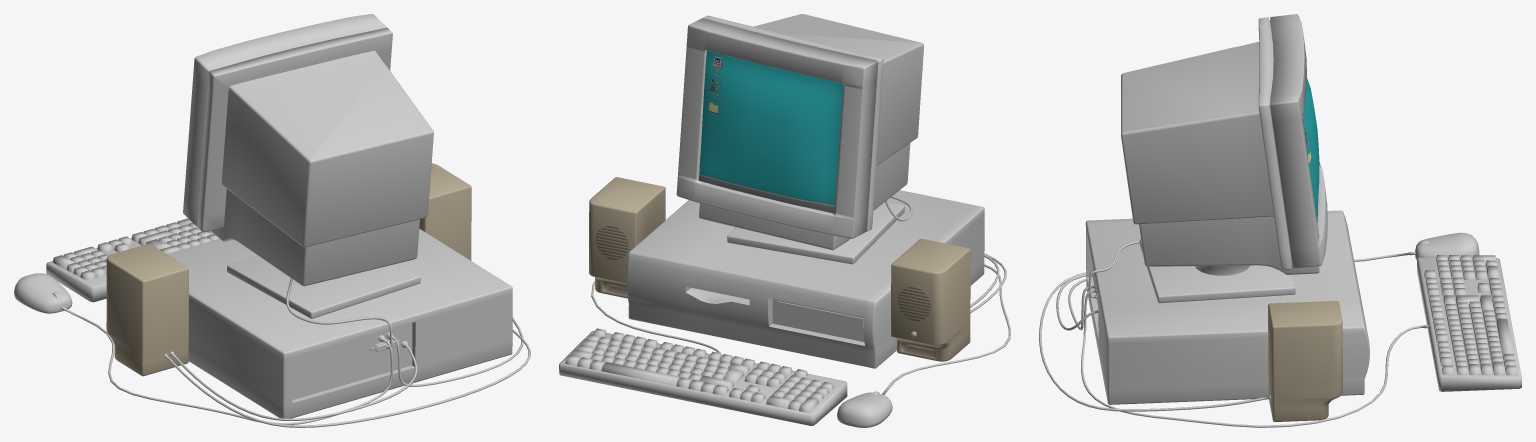
The model's file is computer_01.fbx.
The picture shows the model from 3 angles, left to right: view 1: azimuth 30°, elevation 25°; view 2: azimuth 150°, elevation 25°; view 3: azimuth 270°, elevation 25°; orthographic projection.
Visible parts, largest first — view 1: Computer screen, Computer, Speaker 2, Keyboard, Speaker 1, wire 2, Mouse, wire 1, wire 3, wire 4; view 2: Computer screen, Computer, Keyboard, Speaker 2, Speaker 1, Mouse, CD tray, wire 1, wire 4, wire 2; view 3: Computer screen, Computer, Keyboard, Speaker 1, wire 4, wire 2, Mouse, wire 1.
Boxes of the visible parts, x1,y1,x2,y2 form: Computer screen: (183, 14, 433, 318); Computer: (167, 228, 512, 418); Speaker 2: (106, 244, 188, 376); Keyboard: (46, 218, 219, 302); Speaker 1: (419, 163, 471, 260); wire 2: (164, 329, 530, 427); Mouse: (14, 273, 72, 313); wire 1: (60, 306, 393, 424); wire 3: (286, 278, 401, 352); wire 4: (386, 317, 523, 386); Computer screen: (676, 14, 923, 264); Computer: (626, 190, 984, 368); Keyboard: (559, 328, 847, 425); Speaker 2: (891, 238, 970, 361); Speaker 1: (589, 177, 665, 298); Mouse: (837, 391, 892, 427); CD tray: (777, 301, 863, 328); wire 1: (882, 264, 1010, 394); wire 4: (591, 281, 720, 352); wire 2: (970, 253, 1006, 313); Computer screen: (1121, 14, 1327, 303); Computer: (1085, 210, 1369, 404); Keyboard: (1417, 255, 1521, 391); Speaker 1: (1268, 301, 1342, 421); wire 4: (1081, 289, 1428, 427); wire 2: (1039, 272, 1270, 411); Mouse: (1415, 232, 1479, 259); wire 1: (1068, 251, 1415, 330).
Size of the model in its own units: 103 by 72.65 by 112.
